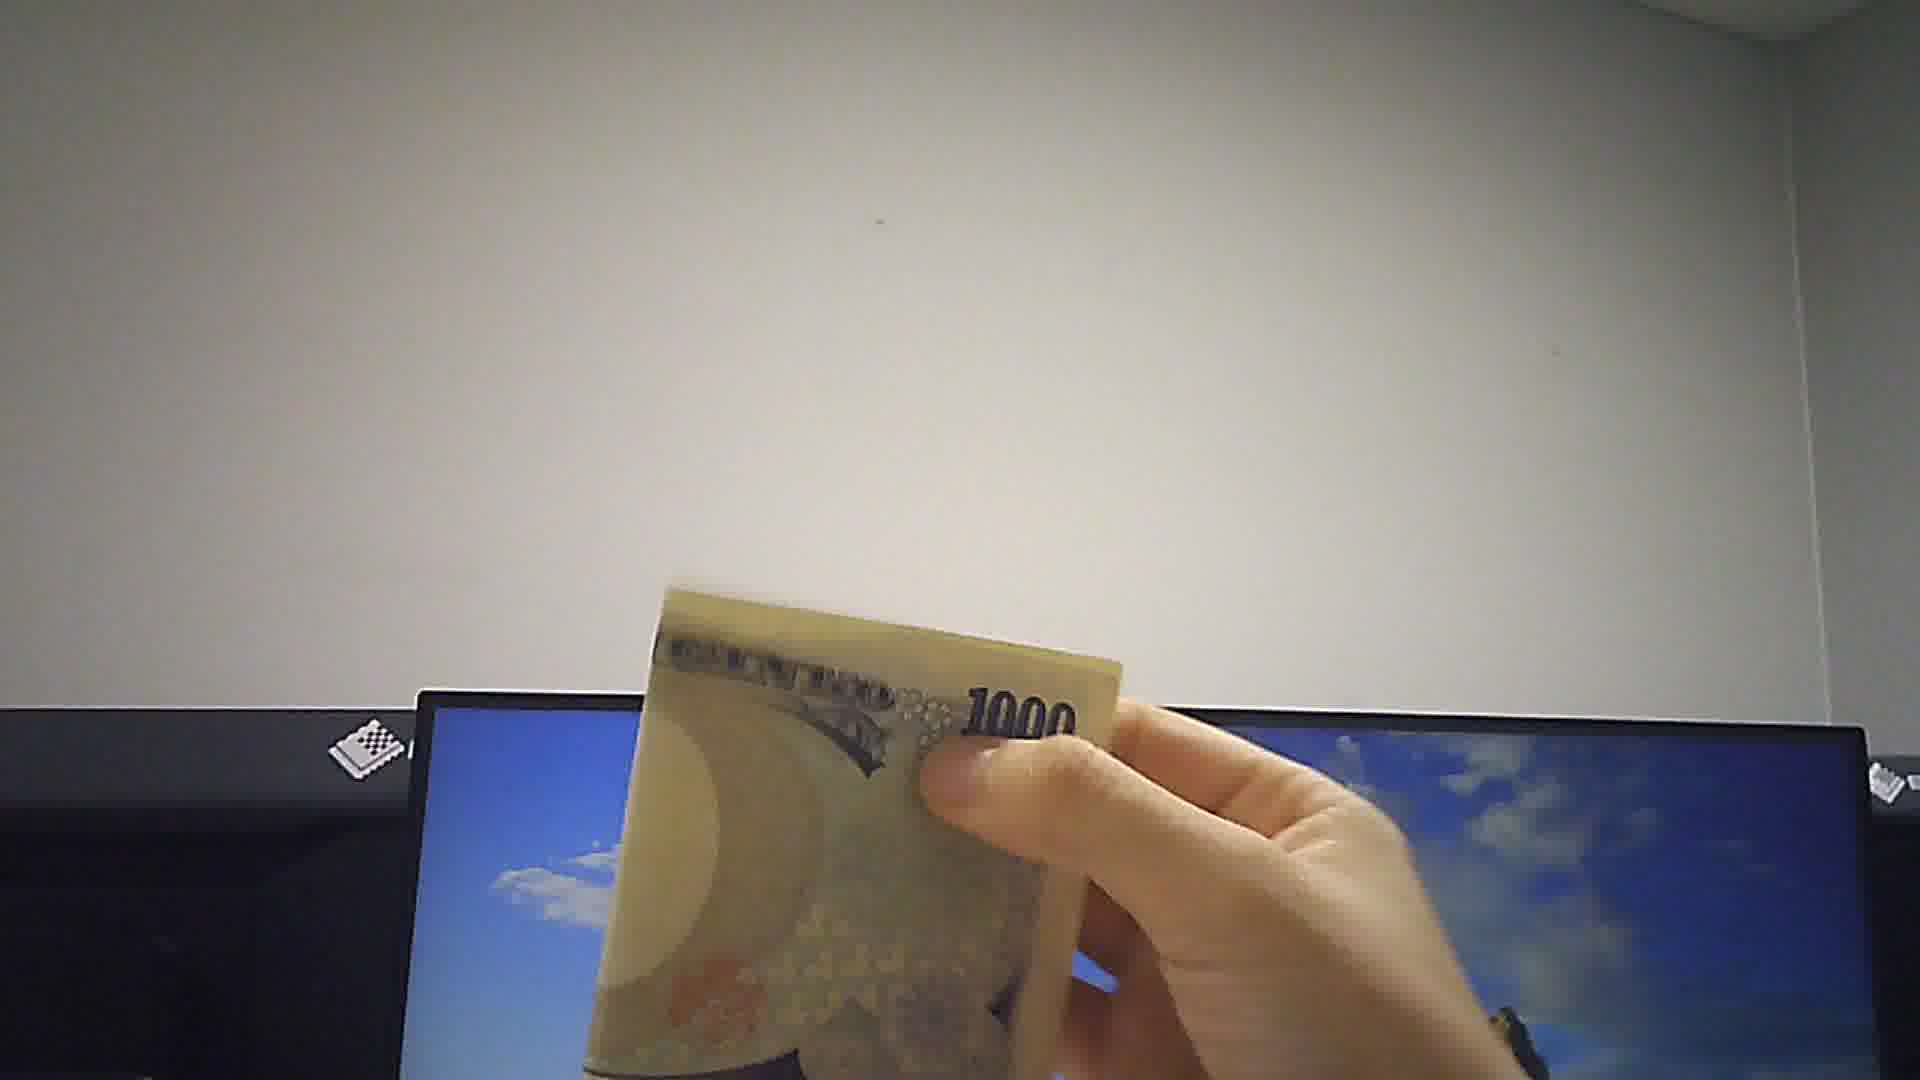1,000 Yen: (595, 585, 1113, 1079)
